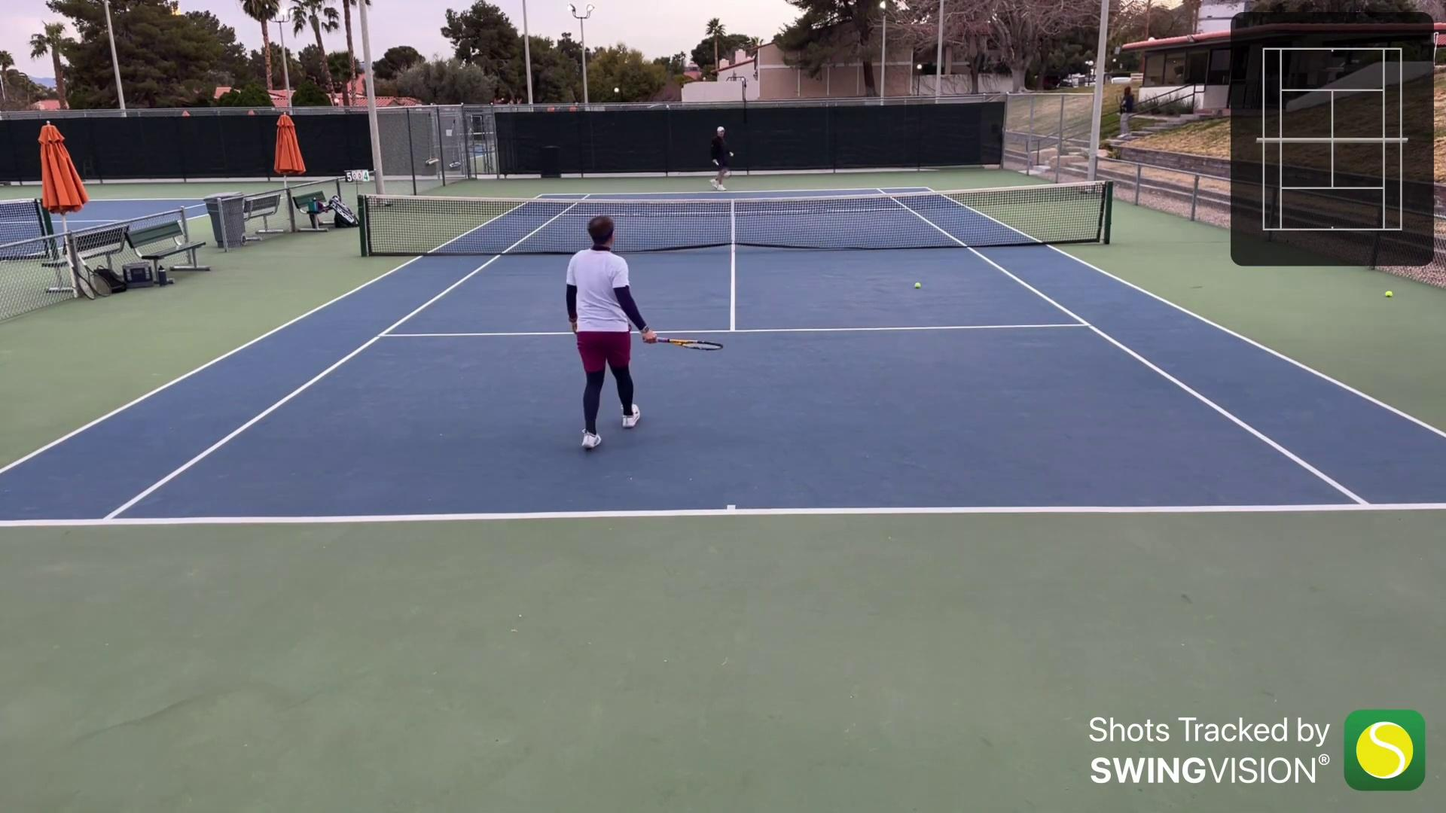ball: (912, 278, 922, 290)
